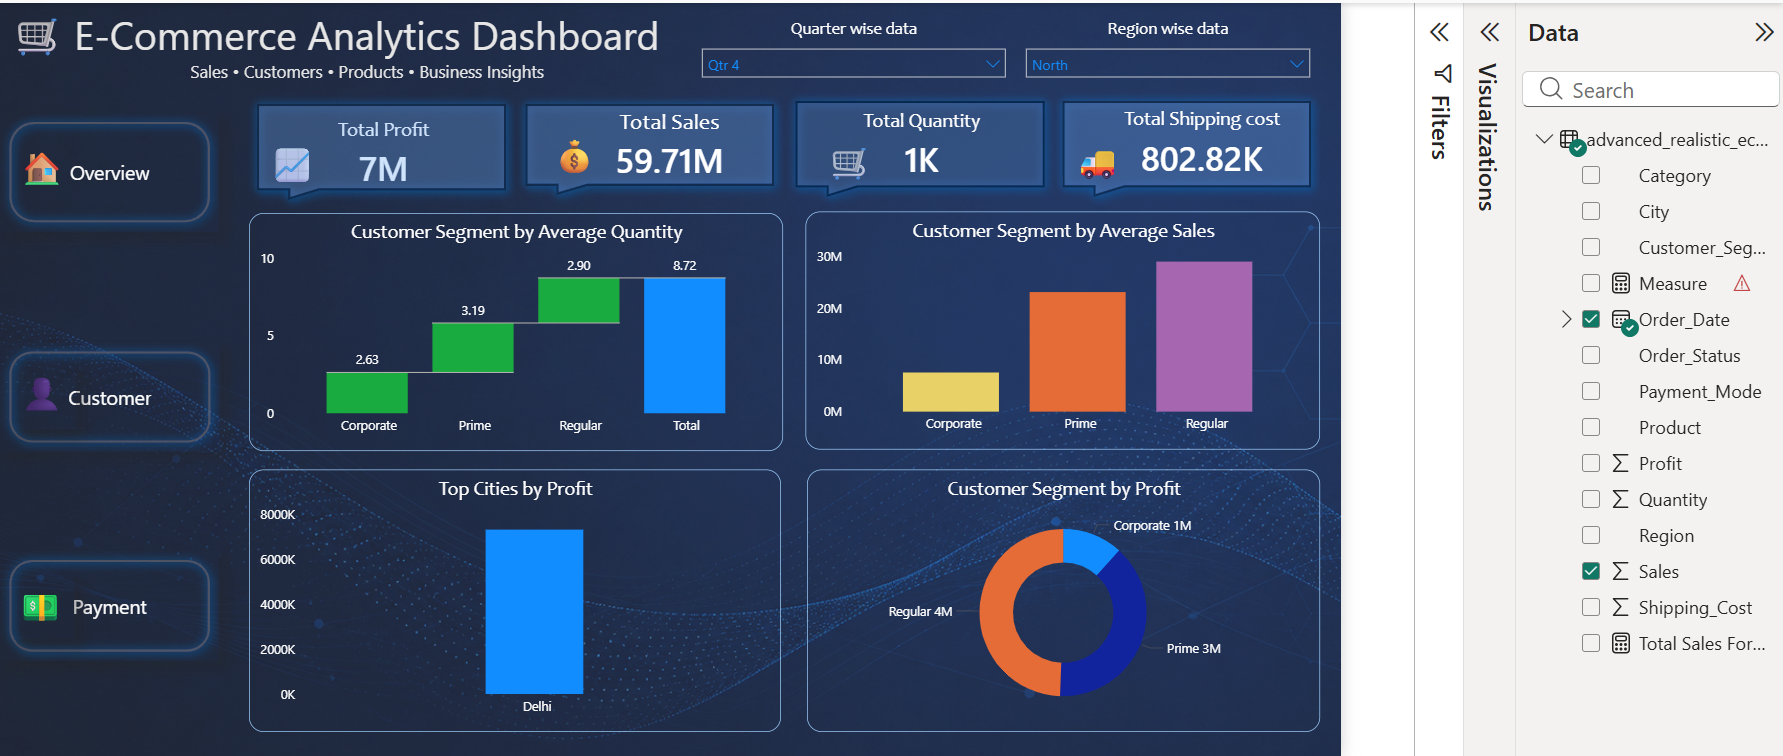

The dashboard page shown, as its layout file describes it:
{"tool":"powerbi","page":{"name":"Page 1","canvas":[1280,720],"ordinal":0},"visuals":[{"type":"textbox","box":[0,0,639.4,81.1],"z":0},{"type":"cardVisual","title":"Total Profit","fields":{"Data":["Sum(advanced_realistic_ecommerce_dataset.Profit)"]},"box":[272.5,108.2,188.7,70],"z":1000},{"type":"textbox","box":[12.7,128.8,60.4,52.5],"z":2000},{"type":"textbox","box":[251.5,125.7,65.2,62],"z":3000},{"type":"shape","box":[237,87.5,255.9,109.8],"z":4000},{"type":"shape","box":[492.4,87.5,255.4,105],"z":5000},{"type":"textbox","box":[521.7,117.7,57.3,60.4],"z":7000},{"type":"textbox","box":[784.2,124.1,74.8,62],"z":8000},{"type":"shape","box":[1005.1,84.3,255.4,109.8],"z":12000},{"type":"shape","box":[750.8,84.3,256.1,109.8],"z":14000},{"type":"slicer","title":"Quarter wise data","fields":{"Values":["advanced_realistic_ecommerce_dataset.Order_Date.Variation.Date Hierarchy.Quarter"]},"box":[660.1,14.3,310.2,70],"z":16000},{"type":"slicer","title":"Region wise data","fields":{"Values":["advanced_realistic_ecommerce_dataset.Region"]},"box":[970.3,14.3,291.1,66.8],"z":17000},{"type":"textbox","box":[1021.8,123.9,65.2,52.5],"z":18000},{"type":"cardVisual","title":"Total Shipping cost","fields":{"Data":["Sum(advanced_realistic_ecommerce_dataset.Shipping_Cost)"]},"box":[1054.6,98.6,187.7,71.6],"z":19000},{"type":"cardVisual","title":"Total Quantity","fields":{"Data":["Sum(advanced_realistic_ecommerce_dataset.Quantity)"]},"box":[785.8,100.2,187.7,70],"z":20000},{"type":"actionButton","box":[0,323.7,210,105],"z":21000,"group":"g1"},{"type":"actionButton","box":[0,522.9,209.5,105.6],"z":21000},{"type":"actionButton","box":[0,103.9,209.5,113.8],"z":22000},{"type":"group","id":"g1","title":"Group 1","box":[0,323.7,210.6,104.6],"z":24000},{"type":"textbox","box":[13.2,344.7,59.4,61],"z":24000,"group":"g1"},{"type":"textbox","box":[11.1,545.6,59.4,61],"z":24000,"group":"g2"},{"type":"ribbonChart","title":"Profit  Vs Avg. Sales","fields":{"Category":["advanced_realistic_ecommerce_dataset.Profit"],"Y":["Avg(advanced_realistic_ecommerce_dataset.Sales)"]},"box":[240.8,442.1,508,260.6],"z":25000},{"type":"clusteredBarChart","title":"Total Profit from Payment method","fields":{"Category":["advanced_realistic_ecommerce_dataset.Payment_Mode"],"Y":["Sum(advanced_realistic_ecommerce_dataset.Profit)"]},"box":[237,197.2,509,230.6],"z":28000},{"type":"donutChart","title":"Average Order Quantity","fields":{"Category":["advanced_realistic_ecommerce_dataset.Payment_Mode"],"Y":["Avg(advanced_realistic_ecommerce_dataset.Quantity)"]},"box":[768.3,197.2,491.5,227.5],"z":29000},{"type":"lineChart","title":"Profit vs avg. Shipping Cost","fields":{"Category":["advanced_realistic_ecommerce_dataset.Profit"],"Y":["Avg(advanced_realistic_ecommerce_dataset.Shipping_Cost)"]},"box":[768.7,442.1,491.5,260.6],"z":30000},{"type":"group","id":"g2","title":"Group 1","box":[11.1,545.6,60.4,62],"z":32000},{"type":"cardVisual","title":"Total Sales","fields":{"Data":["Sum(advanced_realistic_ecommerce_dataset.Sales)"]},"box":[545.6,100.2,187.7,70],"z":32001}]}

Visuals, with their boxes on the page's 1280x720 design canvas (x1, y1, x2, y2). These are canvas units, not pixel positions in the 1783x756 screenshot, which may show the page scaled, cropped or inside an application window:
textbox: [0,0,639,81]
"Total Profit" cardVisual: [272,108,461,178]
textbox: [13,129,73,181]
textbox: [252,126,317,188]
shape: [237,88,493,197]
shape: [492,88,748,192]
textbox: [522,118,579,178]
textbox: [784,124,859,186]
shape: [1005,84,1260,194]
shape: [751,84,1007,194]
"Quarter wise data" slicer: [660,14,970,84]
"Region wise data" slicer: [970,14,1261,81]
textbox: [1022,124,1087,176]
"Total Shipping cost" cardVisual: [1055,99,1242,170]
"Total Quantity" cardVisual: [786,100,974,170]
actionButton: [0,324,210,429]
actionButton: [0,523,210,628]
actionButton: [0,104,210,218]
"Group 1" group: [0,324,211,428]
textbox: [13,345,73,406]
textbox: [11,546,70,607]
"Profit  Vs Avg. Sales" ribbonChart: [241,442,749,703]
"Total Profit from Payment method" clusteredBarChart: [237,197,746,428]
"Average Order Quantity" donutChart: [768,197,1260,425]
"Profit vs avg. Shipping Cost" lineChart: [769,442,1260,703]
"Group 1" group: [11,546,72,608]
"Total Sales" cardVisual: [546,100,733,170]
